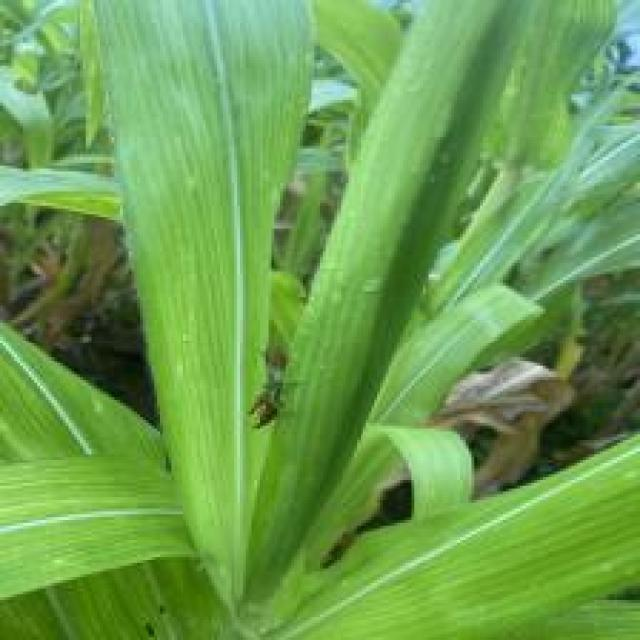Plaga: (244, 356, 315, 453)
